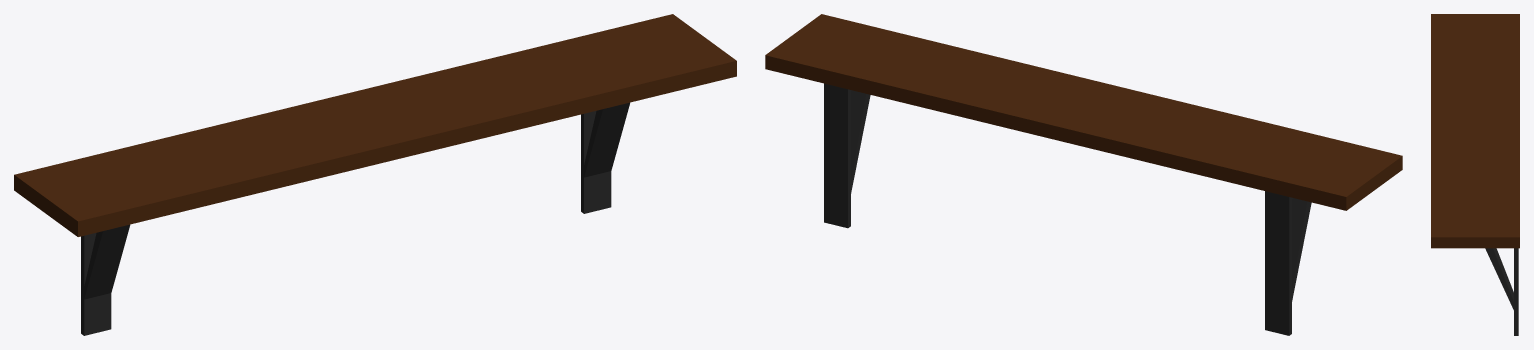
File: CPI441_Fur_ShortWallShelf.fbx
The picture shows the model from 3 angles, left to right: view 1: azimuth 30°, elevation 25°; view 2: azimuth 150°, elevation 25°; view 3: azimuth 270°, elevation 25°; orthographic projection. The views are drawn at different scales.
Visible parts, largest first — view 1: Cube.001; view 2: Cube.001; view 3: Cube.001.
Boxes of the visible parts, bbox=[...] form: Cube.001: bbox=[14, 14, 736, 335]; Cube.001: bbox=[765, 14, 1402, 335]; Cube.001: bbox=[1431, 14, 1519, 335].
Bounding box in the file's own units: 758 × 191 × 127.
